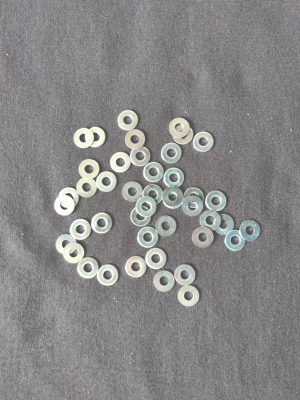circle: (178, 286, 201, 308), (97, 264, 119, 287), (70, 219, 92, 241), (175, 265, 196, 287), (146, 248, 167, 270), (182, 196, 204, 217), (184, 187, 205, 209), (130, 145, 151, 167), (91, 213, 113, 234), (154, 271, 175, 292), (240, 220, 261, 241), (225, 230, 246, 251), (193, 227, 214, 248), (214, 214, 235, 235), (156, 216, 177, 237), (126, 257, 147, 278), (78, 258, 99, 279), (161, 143, 182, 164), (125, 129, 146, 150), (110, 152, 131, 173), (97, 171, 118, 192), (122, 181, 143, 202), (59, 187, 80, 208), (54, 195, 75, 216), (56, 234, 77, 255), (63, 243, 84, 264), (200, 211, 222, 231), (207, 191, 227, 213), (193, 132, 215, 152), (86, 126, 106, 148), (138, 227, 158, 248), (131, 206, 151, 227), (136, 196, 156, 217), (164, 189, 184, 210), (144, 162, 164, 183), (118, 110, 139, 130), (79, 159, 100, 179), (74, 128, 94, 149), (169, 118, 189, 138), (173, 125, 193, 145), (143, 185, 163, 205), (163, 187, 183, 207), (164, 168, 184, 188), (77, 178, 97, 198)
